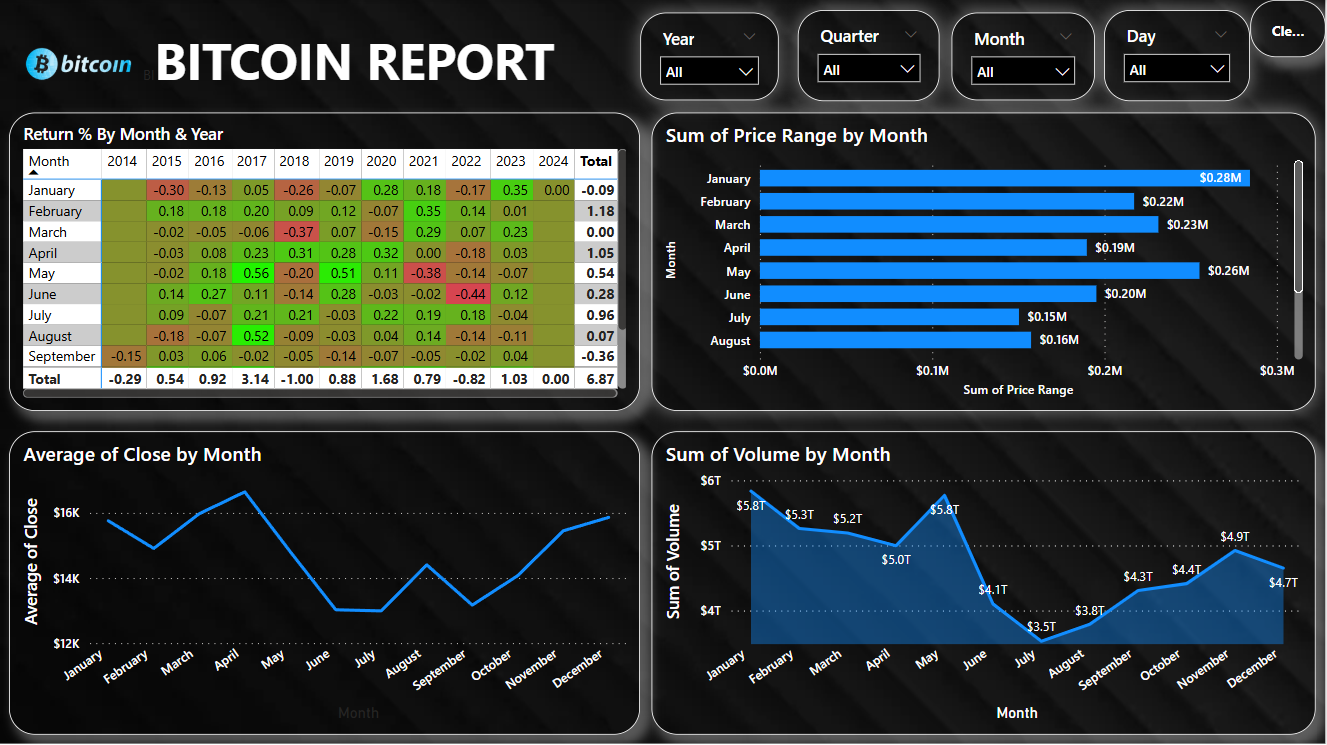

Layout of this report page (visuals, bound fields, positions):
{"tool":"powerbi","page":{"name":"Page 1","canvas":[1280,720],"ordinal":0},"visuals":[{"type":"lineChart","fields":{"Category":["BTC-USD (2014-2024).Date.Variation.Date Hierarchy.Month"],"Y":["Avg(BTC-USD (2014-2024).Close)"]},"box":[9.9,416,608.6,292.6],"z":0},{"type":"areaChart","fields":{"Category":["BTC-USD (2014-2024).Date.Variation.Date Hierarchy.Month"],"Y":["Sum(BTC-USD (2014-2024).Volume)"]},"box":[629.6,416,640.7,292.6],"z":1000},{"type":"pivotTable","title":"Return % By Month & Year","fields":{"Rows":["BTC-USD (2014-2024).Date.Variation.Date Hierarchy.Month"],"Columns":["BTC-USD (2014-2024).Date.Variation.Date Hierarchy.Year"],"Values":["Sum(BTC-USD (2014-2024).Daily Return)"]},"box":[9.9,108.6,608.6,287.7],"z":2000},{"type":"slicer","fields":{"Values":["BTC-USD (2014-2024).Date.Variation.Date Hierarchy.Day"]},"box":[1066.7,9.9,140.7,87.7],"z":3000},{"type":"slicer","fields":{"Values":["BTC-USD (2014-2024).Date.Variation.Date Hierarchy.Month"]},"box":[918.5,12.3,138.3,85.2],"z":4000},{"type":"slicer","fields":{"Values":["BTC-USD (2014-2024).Date.Variation.Date Hierarchy.Year"]},"box":[618.5,12.3,133.3,85.2],"z":5000},{"type":"slicer","fields":{"Values":["BTC-USD (2014-2024).Date.Variation.Date Hierarchy.Quarter"]},"box":[770.4,9.9,137,87.7],"z":6000},{"type":"actionButton","title":"Clear Filters","box":[1207.4,0,72.8,55.6],"z":7000},{"type":"barChart","fields":{"Y":["Sum(BTC-USD (2014-2024).Price Range)"],"Category":["BTC-USD (2014-2024).Date.Variation.Date Hierarchy.Month"]},"box":[629.6,108.6,640.7,287.7],"z":8000},{"type":"textbox","box":[133.3,21,430.9,76.5],"z":9000},{"type":"image","box":[0,0,153.1,123.5],"z":10000}]}

Visuals, with their boxes in screenshot pixels (x1, y1, x2, y2), scaled from the page's 1280x720 canvas onto the 1327x745 screenshot:
lineChart - BTC-USD (2014-2024).Date.Variation.Date Hierarchy.Month x Avg(BTC-USD (2014-2024).Close): bbox(10, 430, 641, 733)
areaChart - BTC-USD (2014-2024).Date.Variation.Date Hierarchy.Month x Sum(BTC-USD (2014-2024).Volume): bbox(653, 430, 1317, 733)
"Return % By Month & Year" pivotTable: bbox(10, 112, 641, 410)
slicer - BTC-USD (2014-2024).Date.Variation.Date Hierarchy.Day: bbox(1106, 10, 1252, 101)
slicer - BTC-USD (2014-2024).Date.Variation.Date Hierarchy.Month: bbox(952, 13, 1096, 101)
slicer - BTC-USD (2014-2024).Date.Variation.Date Hierarchy.Year: bbox(641, 13, 779, 101)
slicer - BTC-USD (2014-2024).Date.Variation.Date Hierarchy.Quarter: bbox(799, 10, 941, 101)
"Clear Filters" actionButton: bbox(1252, 0, 1326, 58)
barChart - Sum(BTC-USD (2014-2024).Price Range) x BTC-USD (2014-2024).Date.Variation.Date Hierarchy.Month: bbox(653, 112, 1317, 410)
textbox: bbox(138, 22, 585, 101)
image: bbox(0, 0, 159, 128)
